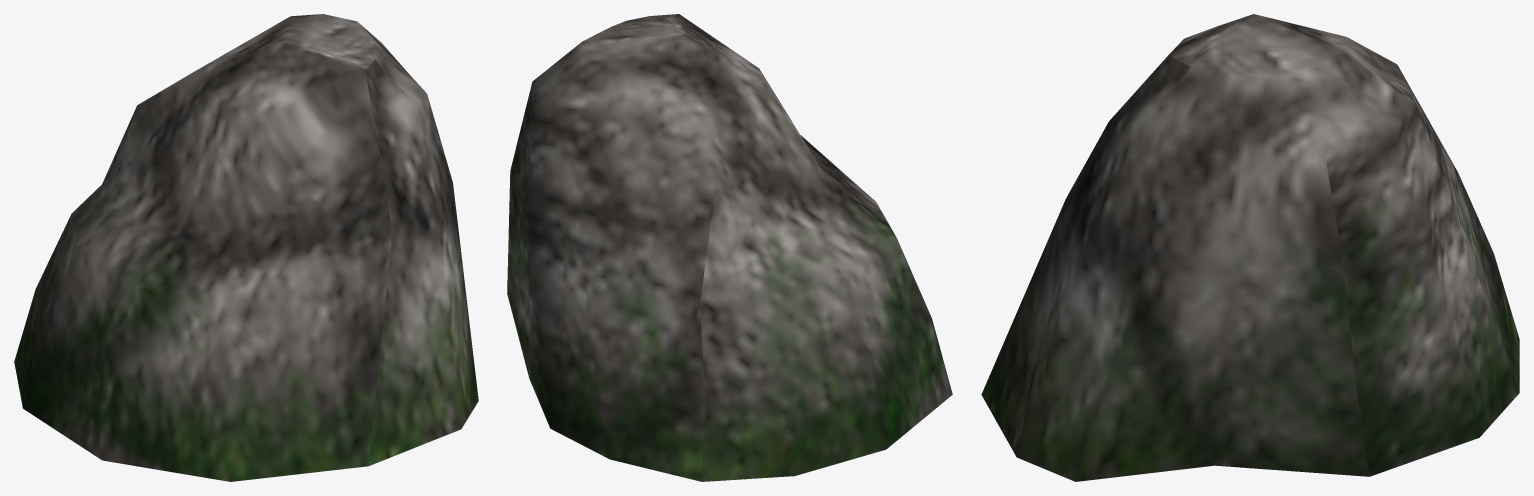
File: stone.dae
3 views of the same model, side by side, from view 1: azimuth 30°, elevation 25°; view 2: azimuth 150°, elevation 25°; view 3: azimuth 270°, elevation 25° (orthographic). The views are drawn at different scales.
Parts seen in each view (by area): view 1: Untitled; view 2: Untitled; view 3: Untitled.
Boxes of the visible parts, x1=… form: Untitled: x1=14, y1=14, x2=478, y2=481; Untitled: x1=507, y1=14, x2=952, y2=481; Untitled: x1=981, y1=14, x2=1519, y2=481.
Bounding box in the file's own units: 1.5 × 1.57 × 1.28.
Materials: 1 (1 with a texture image).
